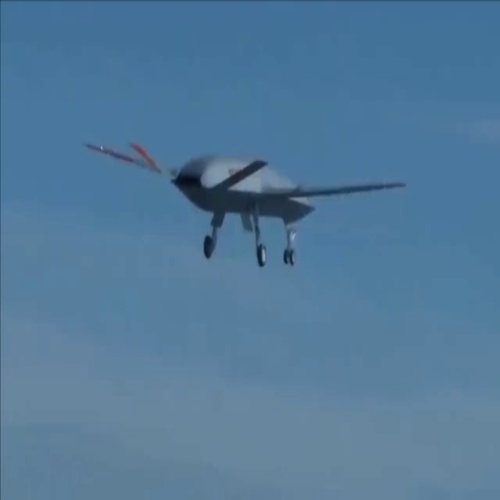uav: (77, 134, 406, 272)
